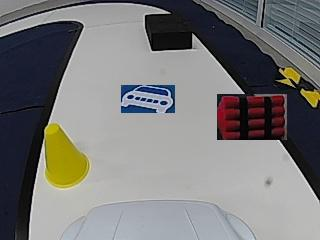block: (144, 13, 191, 51)
cone: (43, 121, 91, 188)
